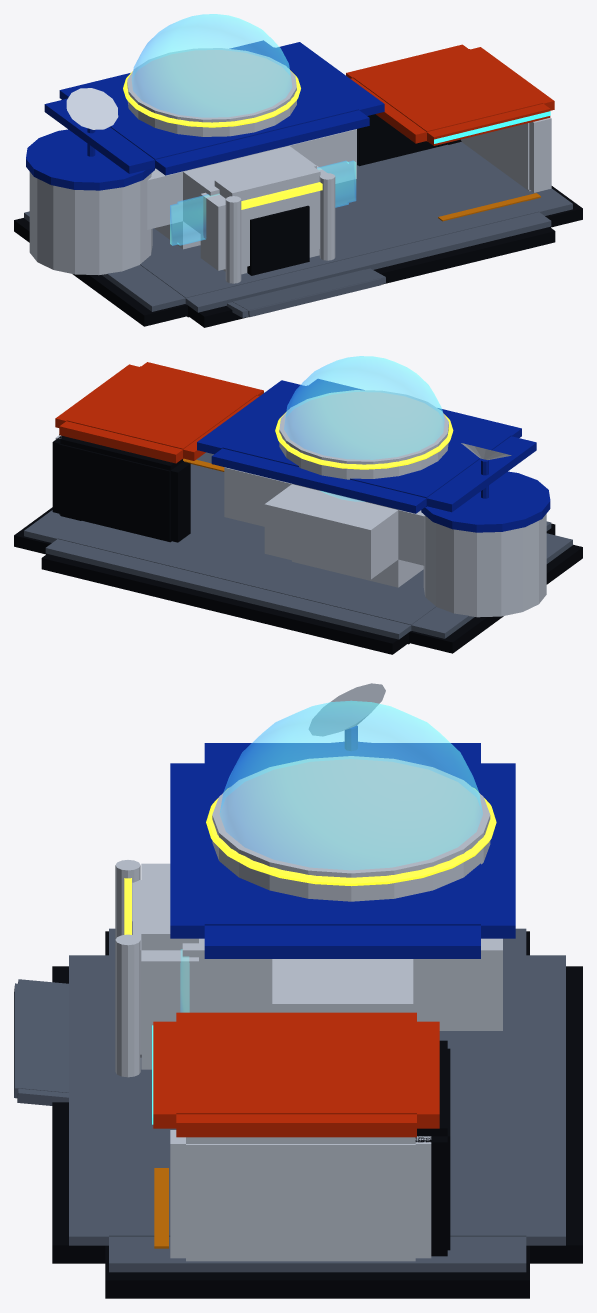
The model's file is earth_academy_hq.glb.
The picture shows the model from 3 angles, top to bottom: view 1: azimuth 30°, elevation 25°; view 2: azimuth 150°, elevation 25°; view 3: azimuth 270°, elevation 25°; orthographic projection. The views are drawn at different scales.
Visible parts, largest first — view 1: AcademyHQBody, AcademyHQGlass, AcademyHQGlow, SpinRadar; view 2: AcademyHQBody, AcademyHQGlass, AcademyHQGlow; view 3: AcademyHQBody, AcademyHQGlass, AcademyHQGlow, SpinRadar.
Boxes of the visible parts, bbox=[...] form: AcademyHQBody: bbox=[14, 40, 582, 327]; AcademyHQGlass: bbox=[132, 14, 356, 245]; AcademyHQGlow: bbox=[123, 70, 550, 209]; SpinRadar: bbox=[66, 88, 118, 129]; AcademyHQBody: bbox=[14, 362, 582, 654]; AcademyHQGlass: bbox=[284, 356, 444, 501]; AcademyHQGlow: bbox=[264, 392, 453, 469]; AcademyHQBody: bbox=[14, 725, 582, 1298]; AcademyHQGlass: bbox=[180, 700, 482, 1012]; AcademyHQGlow: bbox=[124, 788, 496, 1124]; SpinRadar: bbox=[309, 683, 385, 736].
Size of the model in its own units: 21.15 by 9.2 by 13.51.
